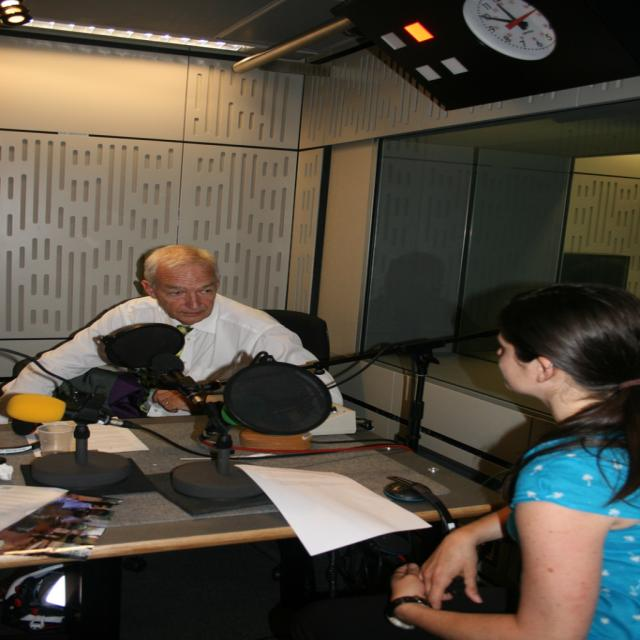desk: (49, 349, 543, 636)
mouse: (383, 476, 424, 502)
person: (379, 282, 638, 640), (0, 245, 326, 414)
